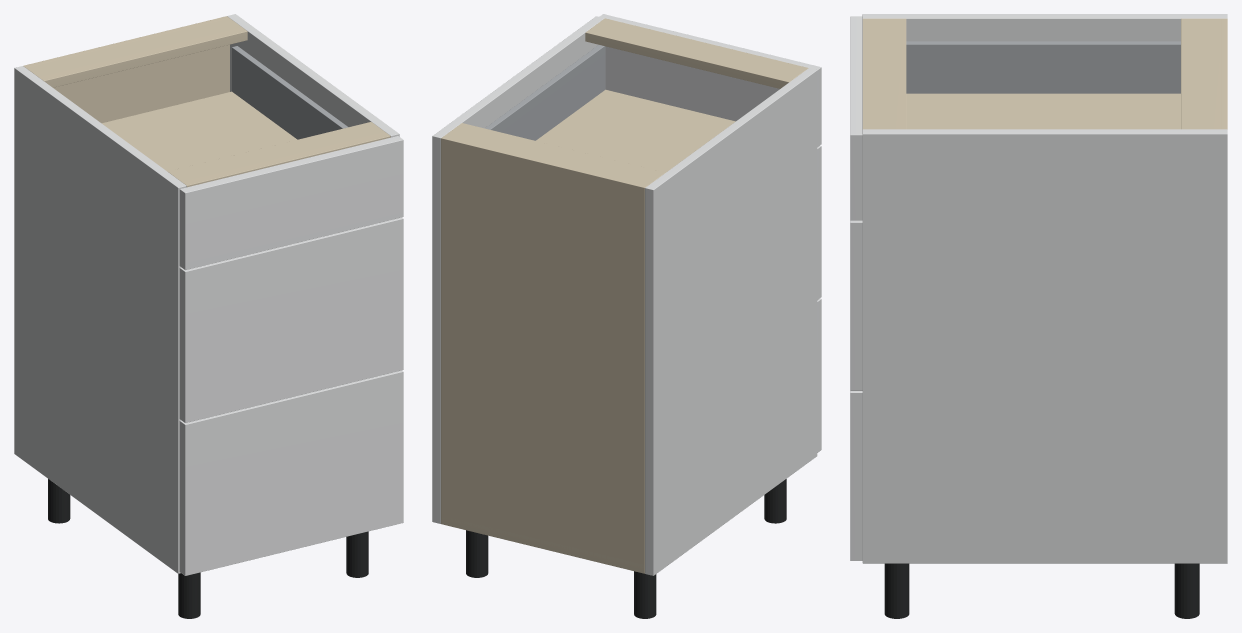
The model's file is oppein-ply-pgw-3db18.glb.
3 views of the same model, side by side, from view 1: azimuth 30°, elevation 25°; view 2: azimuth 150°, elevation 25°; view 3: azimuth 270°, elevation 25° (orthographic). The views are drawn at different scales.
Visible parts, largest first — view 1: Cabinet side, Drawer front.001, Drawer front, Drawer front.002, Drawer floor.002, Cabinet back, Top support rail, Drawer side.005, Top support rail.001, Cabinet side.001, Adjustable foot.001, Adjustable foot.003 (+1 smaller); view 2: Cabinet back, Cabinet side, Drawer floor.002, Drawer front.002, Cabinet side.001, Top support rail.001, Drawer side.005, Top support rail, Cabinet bottom, Adjustable foot, Adjustable foot.002, Adjustable foot.001 (+2 smaller); view 3: Cabinet side.001, Drawer side.004, Drawer floor.002, Cabinet side, Top support rail.001, Top support rail, Drawer front.002, Drawer front.001, Drawer front, Adjustable foot.002, Adjustable foot.003, Cabinet back.
Boxes of the visible parts, box(x1,y1,x2,y2) form: Cabinet side: box(14, 66, 186, 573); Drawer front.001: box(179, 217, 403, 422); Drawer front: box(179, 370, 403, 575); Drawer front.002: box(179, 136, 403, 269); Drawer floor.002: box(102, 91, 297, 171); Cabinet back: box(23, 16, 229, 123); Top support rail: box(25, 18, 247, 87); Drawer side.005: box(232, 46, 348, 139); Top support rail.001: box(167, 122, 390, 187); Cabinet side.001: box(227, 14, 399, 137); Adjustable foot.001: box(178, 572, 200, 618); Adjustable foot.003: box(346, 531, 368, 577); Cabinet back: box(441, 136, 647, 573); Cabinet side: box(645, 68, 817, 575); Drawer floor.002: box(536, 89, 735, 172); Drawer front.002: box(599, 14, 821, 146); Cabinet side.001: box(432, 16, 604, 523); Top support rail.001: box(585, 18, 808, 88); Drawer side.005: box(485, 45, 605, 140); Top support rail: box(444, 123, 665, 185); Cabinet bottom: box(441, 517, 644, 573); Adjustable foot: box(634, 571, 656, 618); Adjustable foot.002: box(466, 530, 488, 577); Adjustable foot.001: box(764, 479, 786, 523); Cabinet side.001: box(862, 129, 1227, 563); Drawer side.004: box(906, 41, 1180, 93); Drawer floor.002: box(906, 93, 1180, 129); Cabinet side: box(862, 14, 1227, 41); Top support rail.001: box(862, 18, 906, 129); Top support rail: box(1181, 18, 1220, 129); Drawer front.002: box(850, 16, 862, 220); Drawer front.001: box(850, 220, 862, 390); Drawer front: box(850, 391, 862, 560); Adjustable foot.002: box(1174, 563, 1199, 618); Adjustable foot.003: box(884, 563, 909, 618); Cabinet back: box(1220, 18, 1227, 129).
Size of the model in its own units: 0.4572 by 0.8763 by 0.6064.
